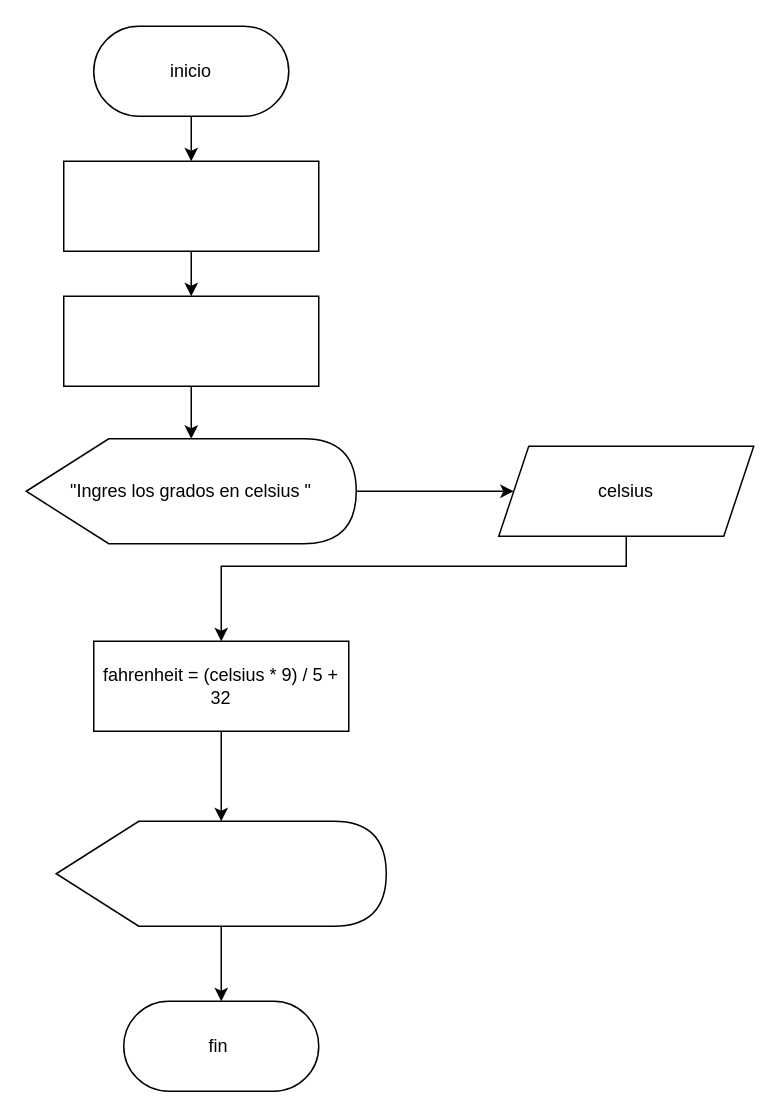
This 780x1118 diagram has some shape labels left out. The shapes that lost their labels are listed below. From the top down, each one's centre as x and y in pixels, then its label:
(x=190, y=205): float = celsius; float=fahrenheit;
(x=190, y=340): celsius =0; fahrenheit = 0;
(x=220, y=873): "Los grandos celcius que ingreso en fahrenheit son: ", fahrenheit
